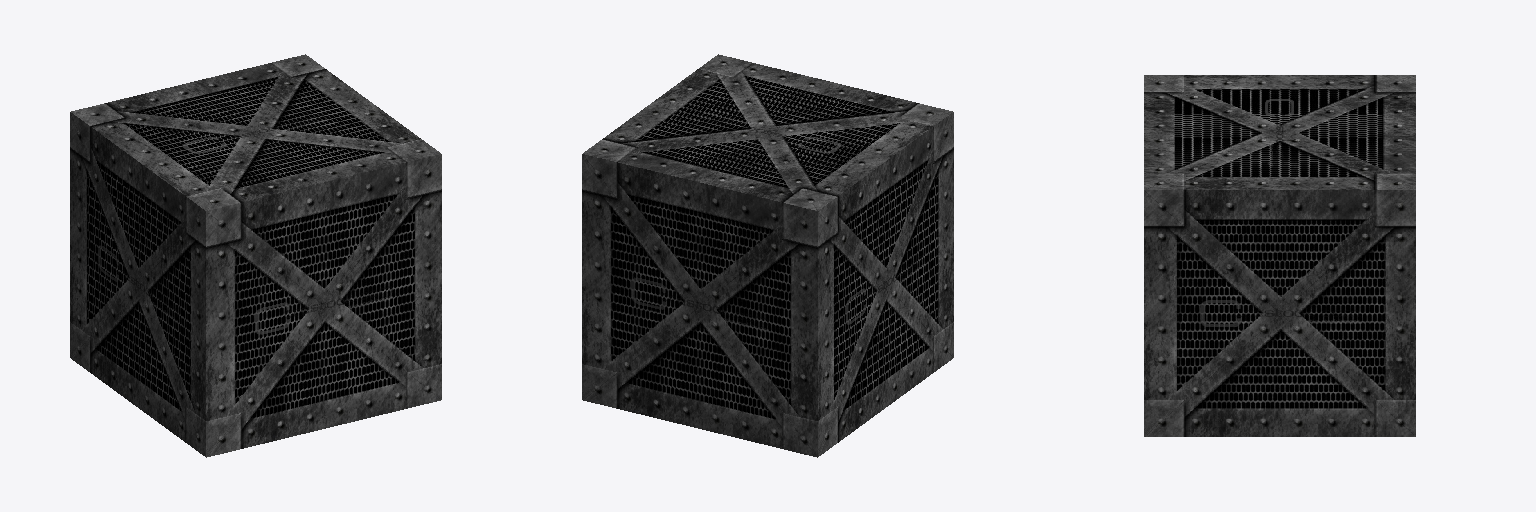
3 views of the same model, side by side, from view 1: azimuth 30°, elevation 25°; view 2: azimuth 150°, elevation 25°; view 3: azimuth 270°, elevation 25° (orthographic).
Visible parts, largest first — view 1: crate, crate1; view 2: crate, crate1; view 3: crate, crate1.
Part boxes in pixels (left/top/right/bottom): crate: left=70, top=54, right=441, bottom=457; crate1: left=70, top=55, right=441, bottom=456; crate: left=582, top=54, right=953, bottom=456; crate1: left=582, top=56, right=953, bottom=457; crate: left=1144, top=75, right=1415, bottom=436; crate1: left=1144, top=75, right=1415, bottom=436.
Bounding box in the file's own units: 1 × 1 × 1.
Materials: 1 (1 with a texture image).